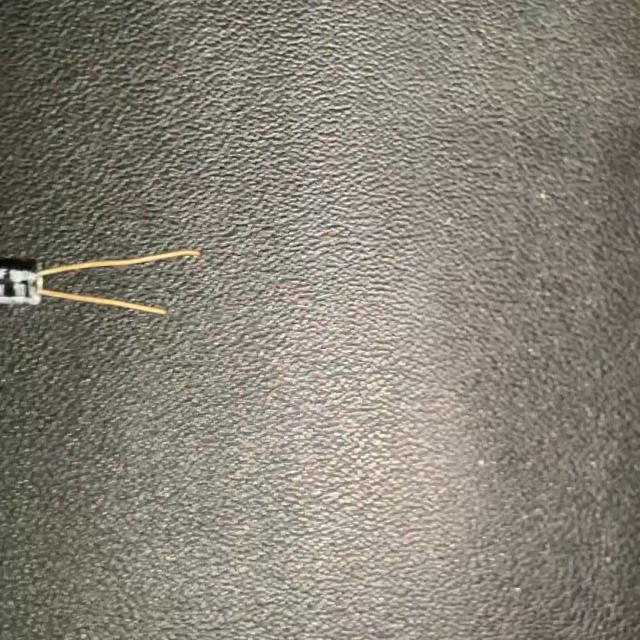capacitor: (0, 243, 202, 317)
